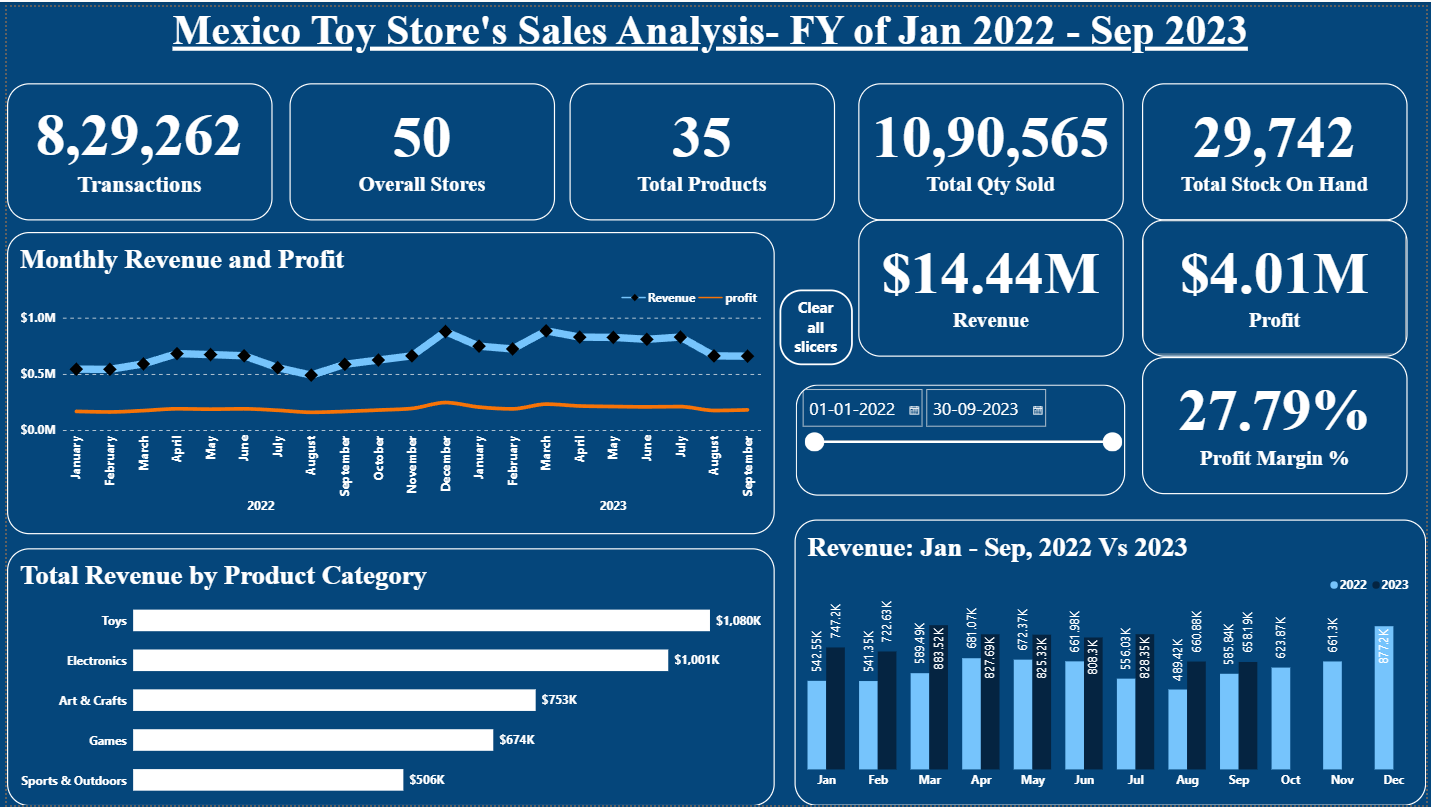

The dashboard page shown, as its layout file describes it:
{"tool":"powerbi","page":{"name":"OverView","canvas":[1920,1080],"ordinal":0},"visuals":[{"type":"textbox","box":[0,0,1902.1,89.9],"z":0},{"type":"cardVisual","fields":{"Data":["CountNonNull(sales.Sale_ID)"]},"box":[0,102.7,359.5,185.3],"z":1000},{"type":"cardVisual","fields":{"Data":["Count(stores.Store_ID)"]},"box":[381.5,102.7,359.5,185.3],"z":2000},{"type":"cardVisual","fields":{"Data":["Count(products.Product_ID)"]},"box":[761.2,102.7,359.5,185.3],"z":3000},{"type":"cardVisual","fields":{"Data":["Sum(sales.Units)"]},"box":[1151.9,102.7,359.5,185.3],"z":4000},{"type":"cardVisual","fields":{"Data":["Sum(inventory.Stock_On_Hand)"]},"box":[1535.3,102.7,359.5,185.3],"z":5000},{"type":"lineChart","title":"Monthly Revenue and Profit","fields":{"Y":["inventory.Revenue","inventory.profit"],"Category":["sales.Date.Variation.Date Hierarchy.Year","sales.Date.Variation.Date Hierarchy.Month"]},"box":[0,304.5,1038.2,409],"z":6000},{"type":"clusteredBarChart","title":"Total Revenue by Product Category","fields":{"Category":["products.Product_Category"],"Y":["inventory.profit"]},"box":[0,732,1038.2,348.5],"z":7000},{"type":"cardVisual","fields":{"Data":["Sum(sales.selling_price)"]},"box":[1151.9,288,359.5,185.3],"z":8000},{"type":"cardVisual","fields":{"Data":["Sum(sales.profit)"]},"box":[1535.3,288,359.5,185.3],"z":9000},{"type":"cardVisual","fields":{"Data":["inventory.Profit_Margin %"]},"box":[1535.3,473.2,359.5,185.3],"z":10000},{"type":"slicer","fields":{"Values":["sales.Date"]},"box":[1066,510,445.7,150.4],"z":11000},{"type":"actionButton","box":[1045.5,381.5,99,102.7],"z":12000},{"type":"clusteredColumnChart","title":"Revenue: Jan - Sep, 2022 Vs 2023","fields":{"Category":["sales.Month"],"Y":["inventory.Revenue"],"Series":["sales.Year"]},"box":[1065.2,693,854.8,387],"z":13000}]}

Visuals, with their boxes in screenshot pixels (x1, y1, x2, y2), scaled from the page's 1920x1080 canvas onto the 1431x807 screenshot:
textbox: bbox=[0, 0, 1418, 67]
cardVisual - CountNonNull(sales.Sale_ID): bbox=[0, 77, 268, 215]
cardVisual - Count(stores.Store_ID): bbox=[284, 77, 552, 215]
cardVisual - Count(products.Product_ID): bbox=[567, 77, 835, 215]
cardVisual - Sum(sales.Units): bbox=[859, 77, 1126, 215]
cardVisual - Sum(inventory.Stock_On_Hand): bbox=[1144, 77, 1412, 215]
"Monthly Revenue and Profit" lineChart: bbox=[0, 228, 774, 533]
"Total Revenue by Product Category" clusteredBarChart: bbox=[0, 547, 774, 806]
cardVisual - Sum(sales.selling_price): bbox=[859, 215, 1126, 354]
cardVisual - Sum(sales.profit): bbox=[1144, 215, 1412, 354]
cardVisual - inventory.Profit_Margin %: bbox=[1144, 354, 1412, 492]
slicer - sales.Date: bbox=[795, 381, 1127, 493]
actionButton: bbox=[779, 285, 853, 362]
"Revenue: Jan - Sep, 2022 Vs 2023" clusteredColumnChart: bbox=[794, 518, 1430, 806]
